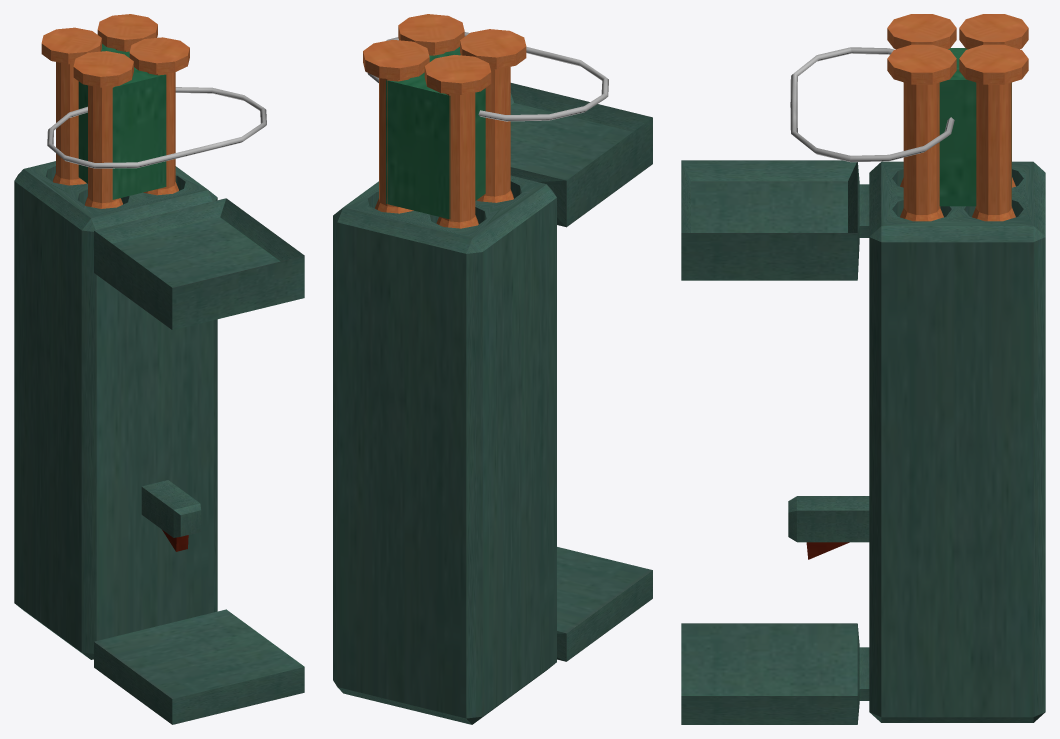
3 views of the same model, side by side, from view 1: azimuth 30°, elevation 25°; view 2: azimuth 150°, elevation 25°; view 3: azimuth 270°, elevation 25° (orthographic). The views are drawn at different scales.
Visible parts, largest first — view 1: arma, cargador; view 2: arma, cargador; view 3: arma, cargador.
Boxes of the visible parts, x1=… form: arma: x1=14, y1=161, x2=304, y2=724; cargador: x1=41, y1=14, x2=266, y2=208; arma: x1=333, y1=83, x2=652, y2=724; cargador: x1=363, y1=14, x2=608, y2=228; arma: x1=681, y1=160, x2=1045, y2=724; cargador: x1=790, y1=14, x2=1028, y2=221.
Bounding box in the file's own units: 1.16 × 1.6 × 3.13.
